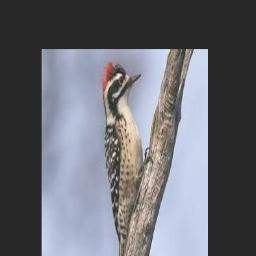Woodpecker: (101, 62, 153, 256)
